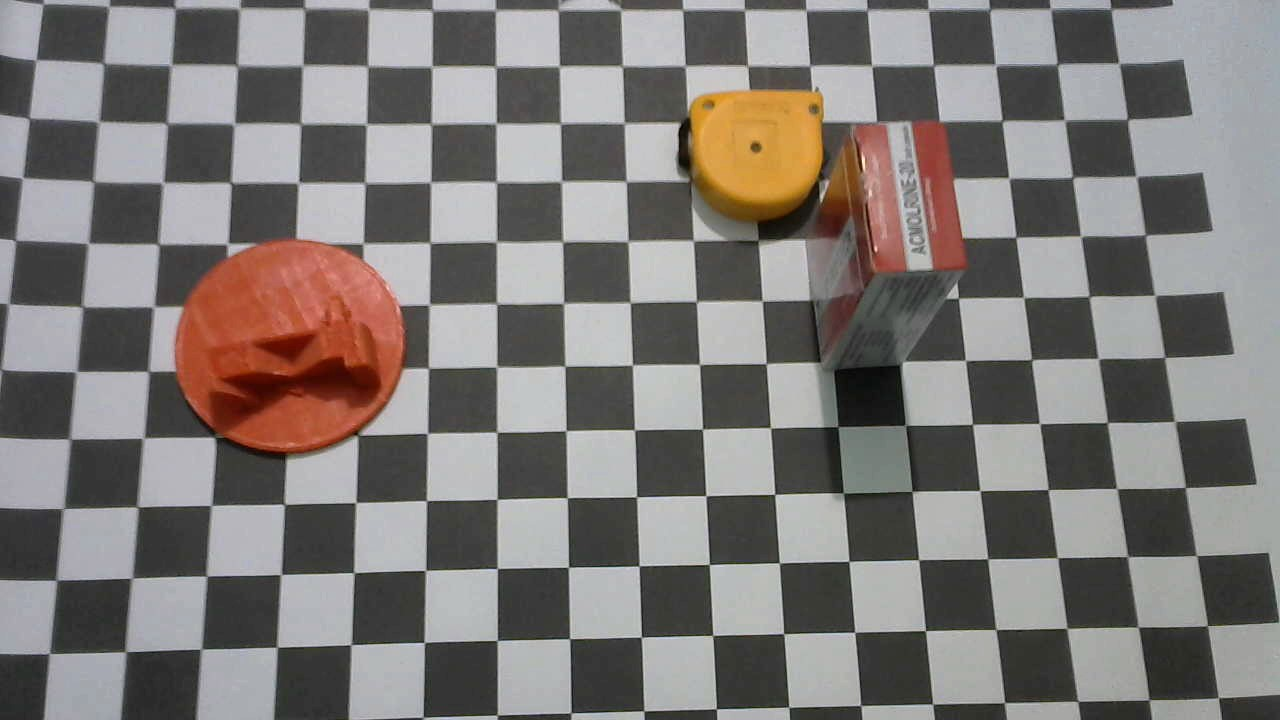blue: (677, 90, 827, 222)
green: (169, 237, 408, 459)
red: (807, 123, 965, 373)
